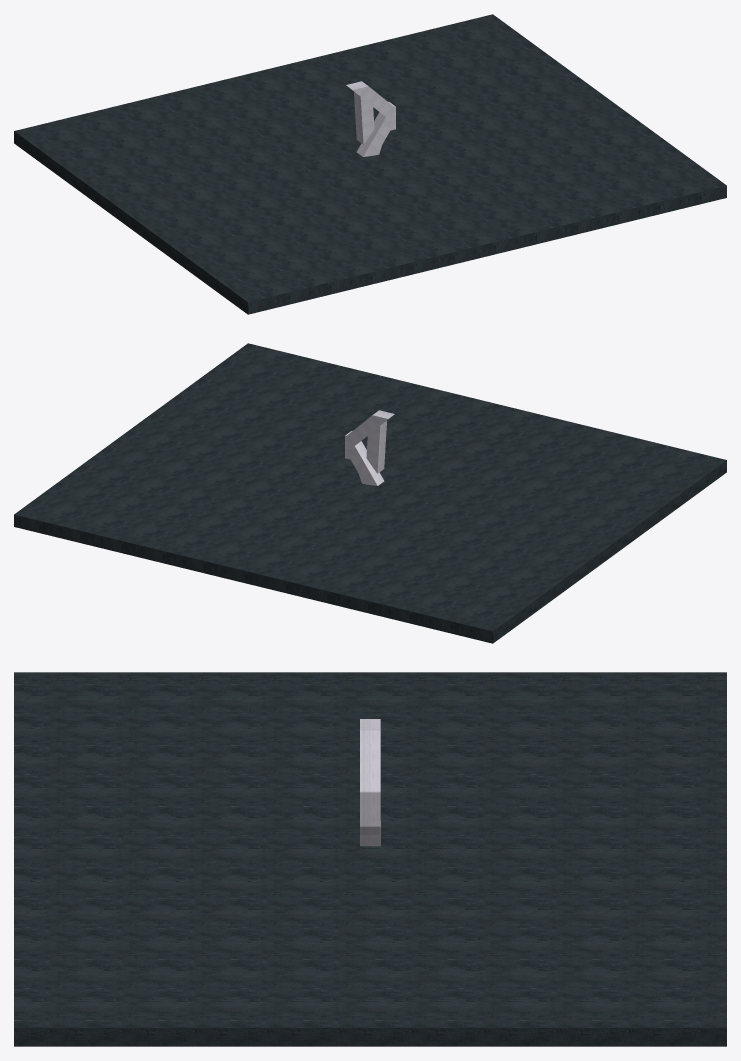
File: DeimosMain.fbx
The picture shows the model from 3 angles, top to bottom: view 1: azimuth 30°, elevation 25°; view 2: azimuth 150°, elevation 25°; view 3: azimuth 270°, elevation 25°; orthographic projection. The views are drawn at different scales.
Parts seen in each view (by area): view 1: Mesh, Mesh_005, Mesh_003; view 2: Mesh, Mesh_005, Mesh_003; view 3: Mesh, Mesh_006, Mesh_002.
Boxes of the visible parts, x1,y1,x2,y2 form: Mesh: [14, 14, 726, 314]; Mesh_005: [354, 92, 374, 144]; Mesh_003: [356, 112, 390, 156]; Mesh: [14, 343, 726, 643]; Mesh_005: [366, 421, 386, 473]; Mesh_003: [351, 441, 384, 485]; Mesh: [14, 672, 726, 1046]; Mesh_006: [360, 730, 380, 790]; Mesh_002: [360, 791, 380, 826].
Bounding box in the file's own units: 4091 × 720 × 3463.
Materials: 3 (2 with a texture image).
